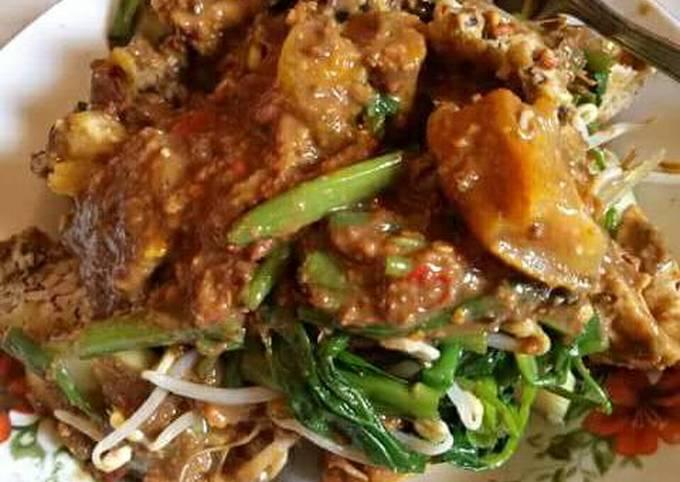rujak_cingur: (1, 1, 680, 482)
